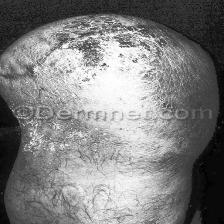Non-Cancerous Skin Condition: (57, 16, 191, 96), (17, 128, 144, 180)
